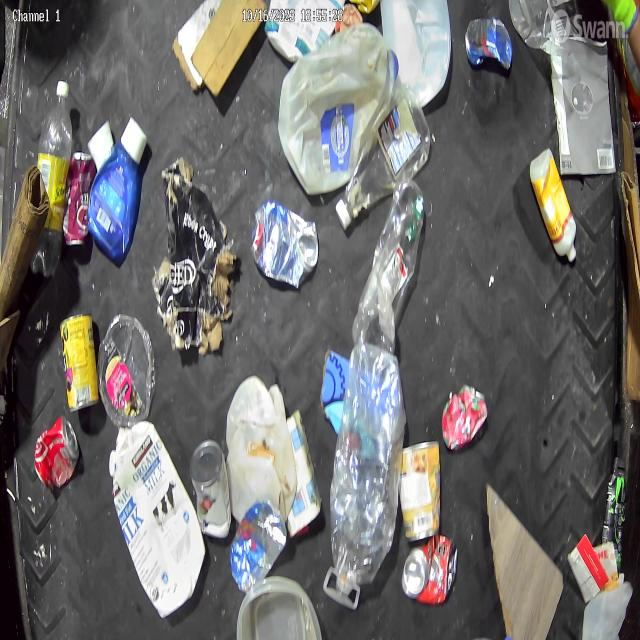can: (250, 201, 320, 289), (230, 496, 287, 592), (188, 438, 233, 538), (399, 439, 442, 542), (402, 533, 458, 603), (60, 313, 99, 412), (34, 414, 80, 487), (62, 152, 96, 246), (441, 385, 488, 450), (465, 19, 513, 69)
milk_jug: (278, 24, 399, 197), (110, 421, 206, 618), (225, 374, 298, 521), (380, 0, 451, 111)
plastic_bottle: (330, 342, 406, 599), (335, 84, 431, 230), (352, 180, 425, 343), (30, 80, 73, 276)
